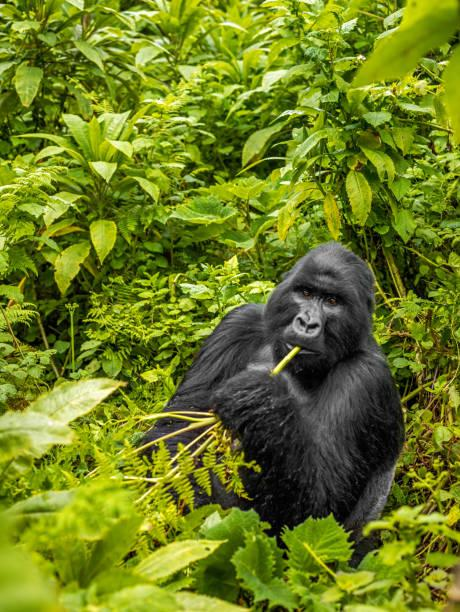goriile_montagne: (168, 234, 404, 546)
